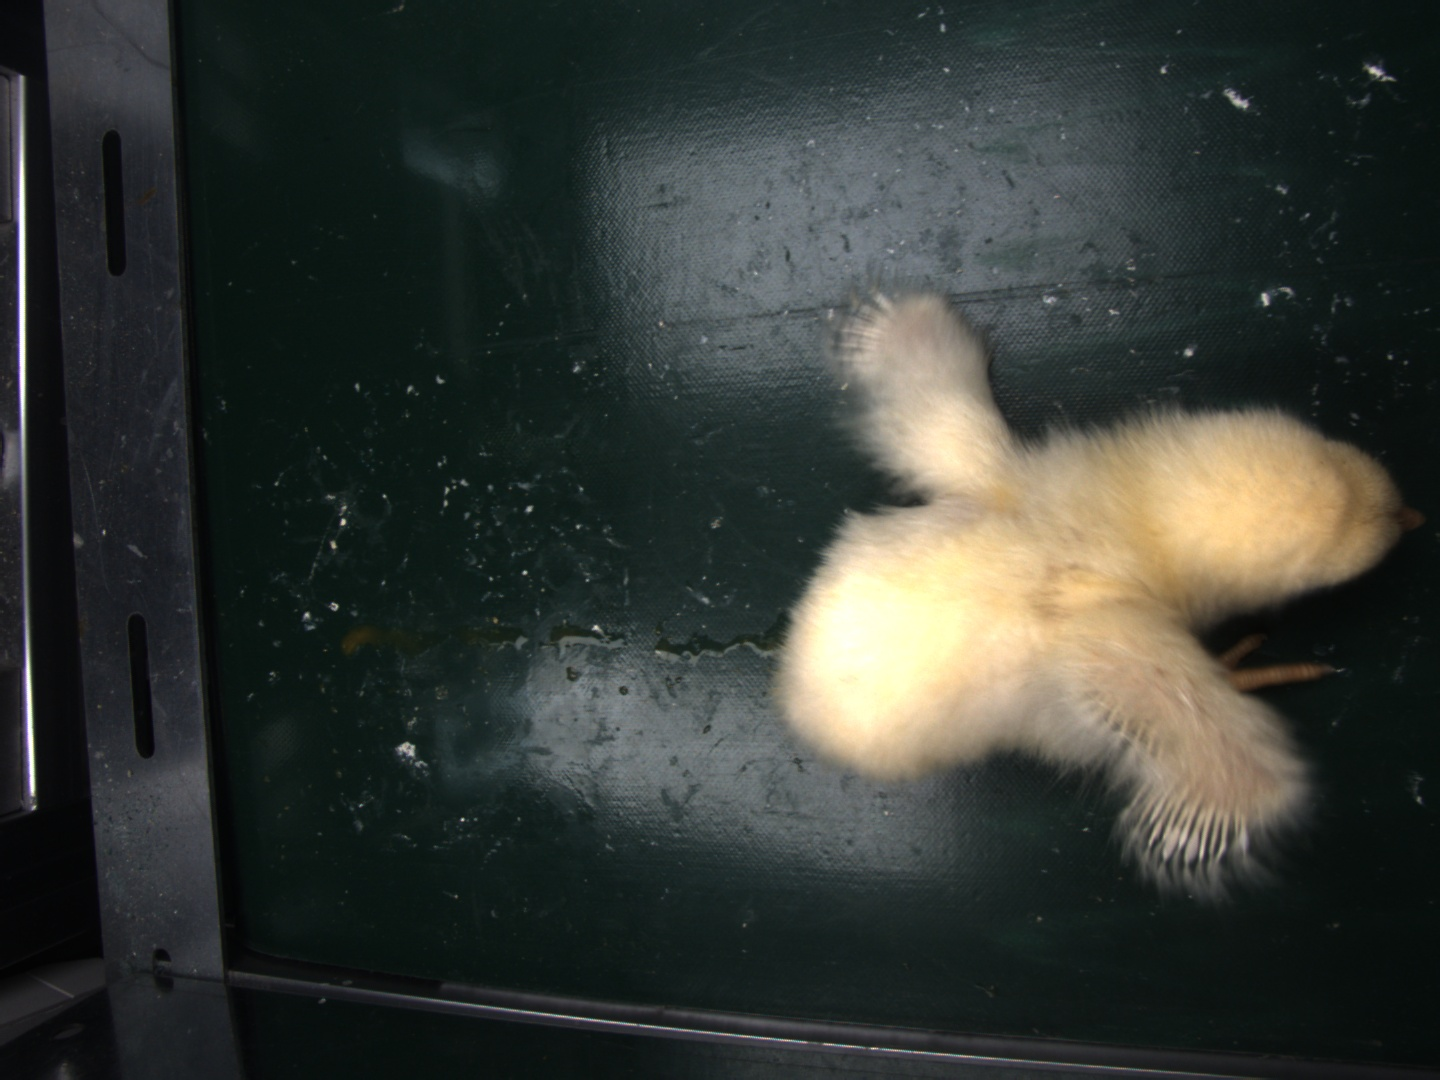male: (1133, 788, 1242, 870)
